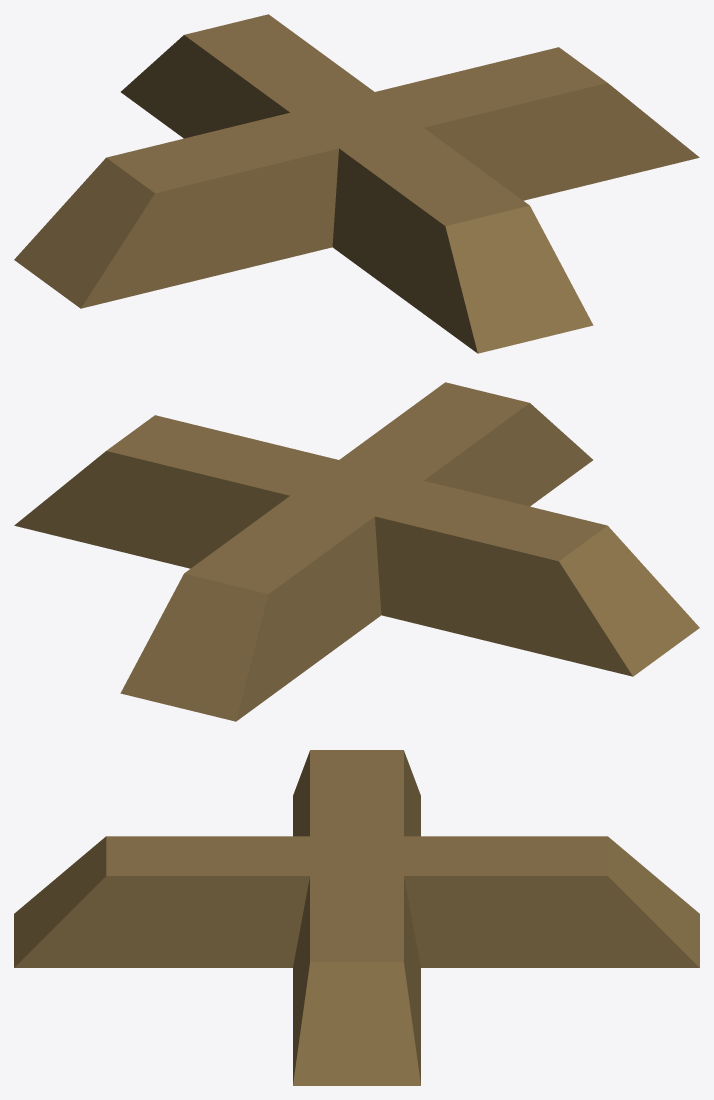
Rendered from Itr_Table_Feet_01.FBX.
The picture shows the model from 3 angles, top to bottom: view 1: azimuth 30°, elevation 25°; view 2: azimuth 150°, elevation 25°; view 3: azimuth 270°, elevation 25°; orthographic projection. The views are drawn at different scales.
Parts seen in each view (by area): view 1: Itr_Table_Feet_01; view 2: Itr_Table_Feet_01; view 3: Itr_Table_Feet_01.
Part boxes in pixels (x1,y1,x2,y2): Itr_Table_Feet_01: (14, 14, 699, 353); Itr_Table_Feet_01: (14, 382, 699, 721); Itr_Table_Feet_01: (14, 750, 699, 1085).
Bounding box in the file's own units: 25.7 × 3.51 × 25.7.
